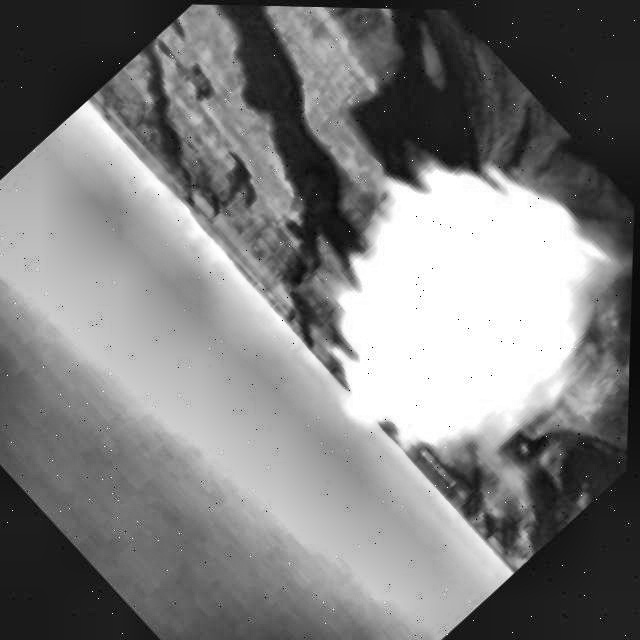Smoke: (234, 53, 636, 569)
